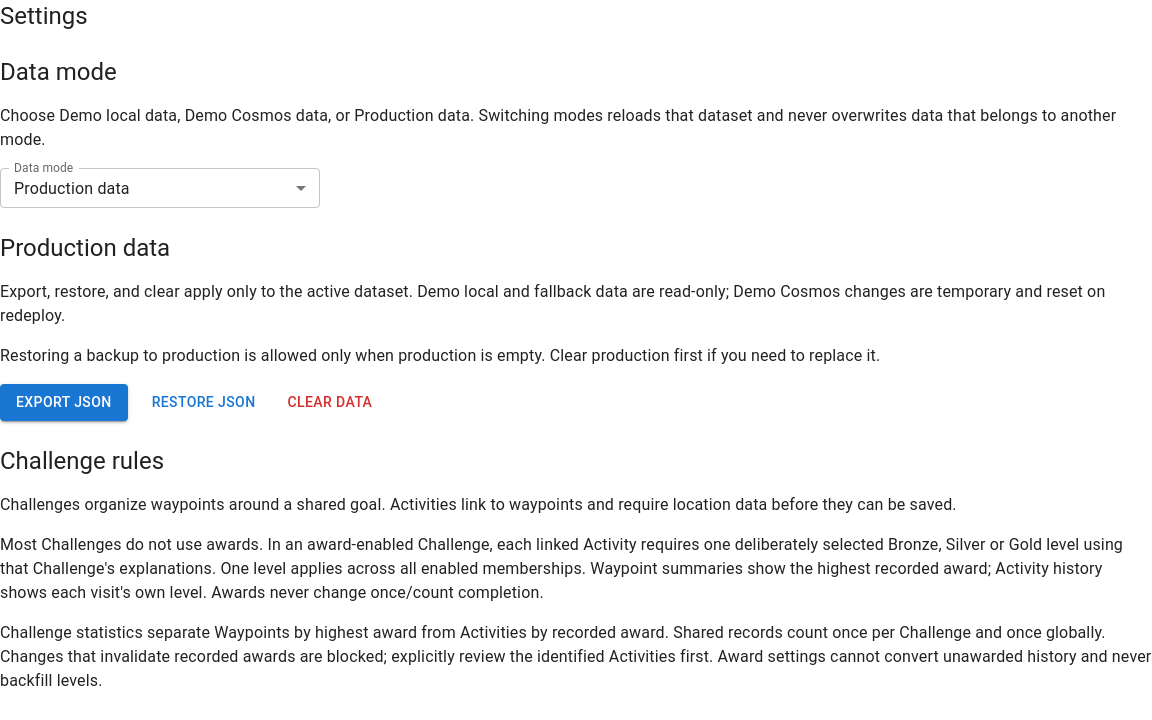
Test: Settings import errors › reports a clear failure without closing the dialog
The width and height of the screenshot is (1152, 720).
What coordinates should you click on to do the following:
click the button "Clear data"
I would click on:
 (330, 402)
Its box is [280,384,380,420].
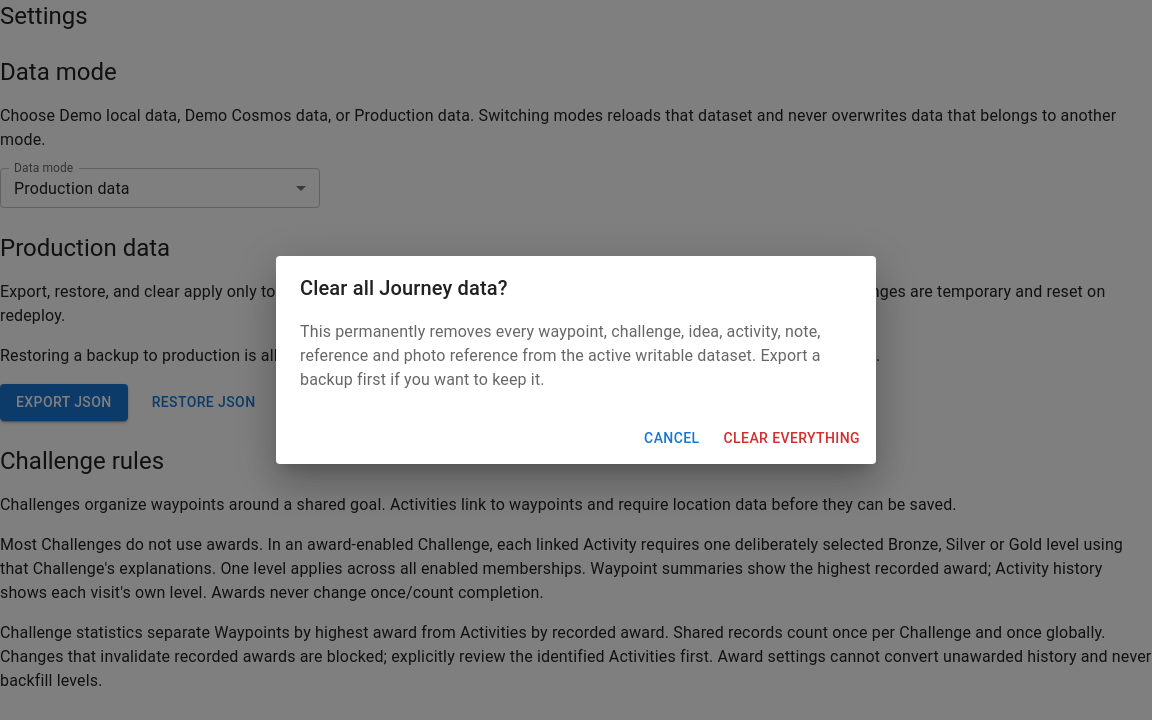
What coordinates should you click on to do the following:
click the button "Clear everything"
I would click on:
 (792, 438)
Its box is [716,420,868,456].
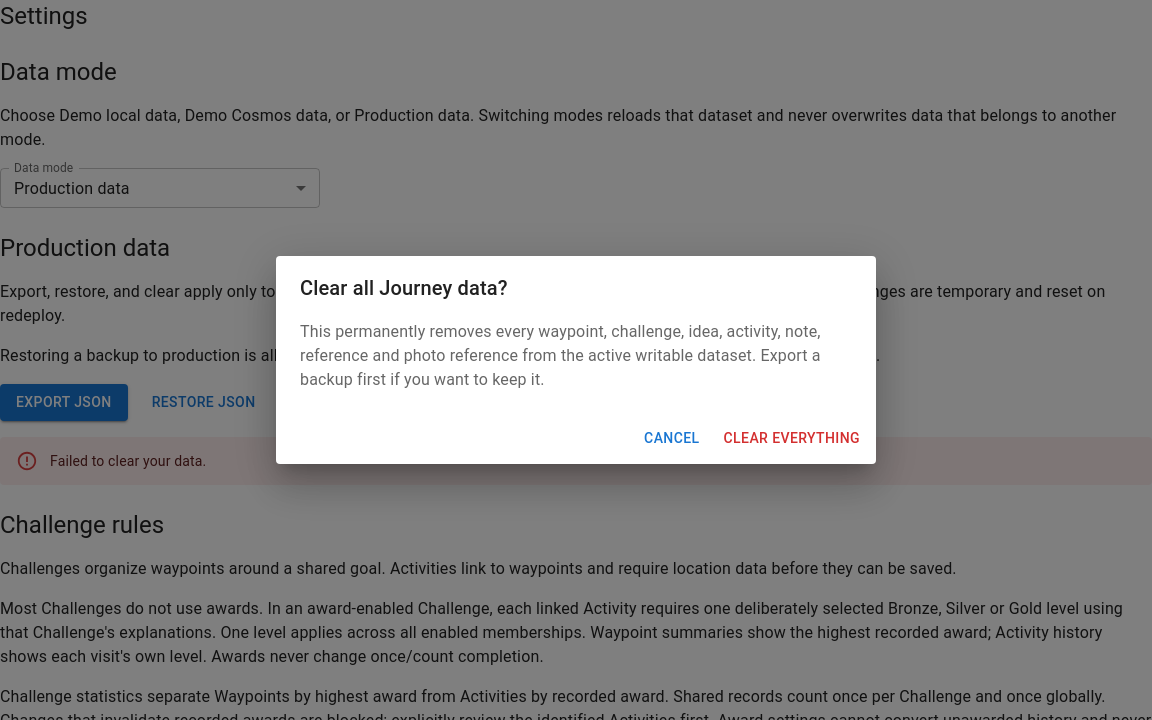
Expected: the dialog is shown, [276,256,876,464]
Expected: the text "Failed to clear your data." is shown, [50,452,206,468]
